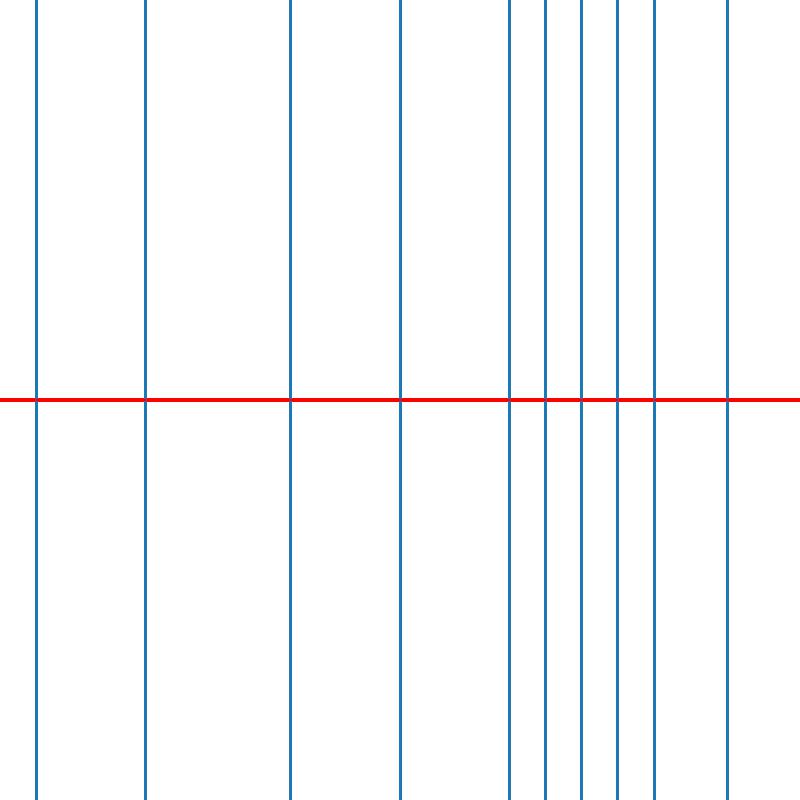root: (541, 396, 549, 404), (650, 396, 658, 404), (32, 396, 40, 404), (141, 396, 149, 404), (505, 396, 512, 404), (287, 396, 294, 404), (396, 396, 403, 404), (578, 396, 585, 404), (723, 396, 730, 404), (614, 396, 621, 404)
